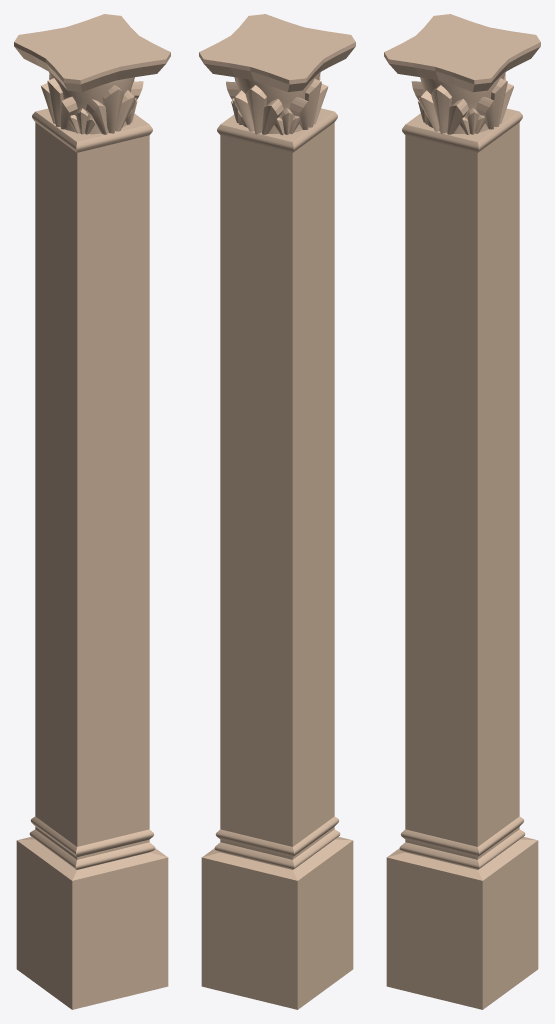
File: BC_Pillar_I.fbx
The picture shows the model from 3 angles, left to right: view 1: azimuth 30°, elevation 25°; view 2: azimuth 150°, elevation 25°; view 3: azimuth 330°, elevation 25°; orthographic projection.
Parts seen in each view (by area): view 1: BC_Pillar_I; view 2: BC_Pillar_I; view 3: BC_Pillar_I.
Boxes of the visible parts, box(x1,y1,x2,y2) form: BC_Pillar_I: box(14, 14, 170, 1009); BC_Pillar_I: box(199, 14, 355, 1009); BC_Pillar_I: box(384, 14, 540, 1009).
Bounding box in the file's own units: 223 × 1851 × 223.
